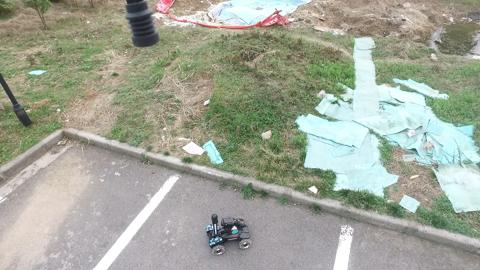chariot: (199, 213, 258, 254)
